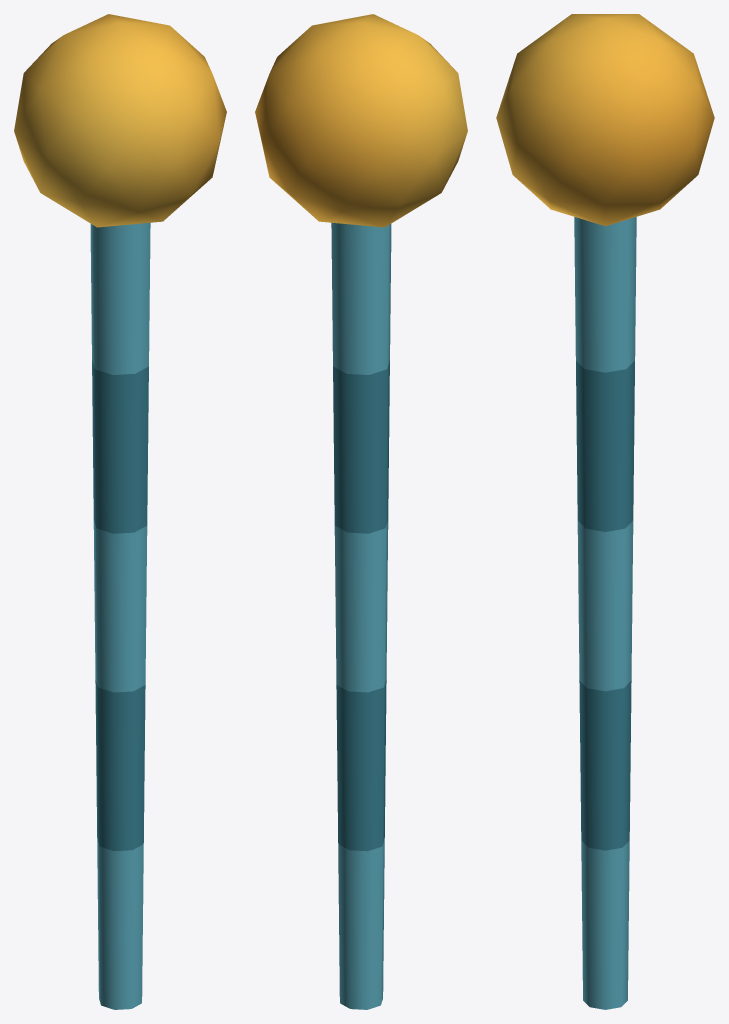
Rendered from lamppost03.fbx.
The picture shows the model from 3 angles, left to right: view 1: azimuth 30°, elevation 25°; view 2: azimuth 150°, elevation 25°; view 3: azimuth 270°, elevation 25°; orthographic projection.
Visible parts, largest first — view 1: lamppost03; view 2: lamppost03; view 3: lamppost03.
Part boxes in pixels (left/top/right/bottom): lamppost03: left=14, top=14, right=226, bottom=1009; lamppost03: left=255, top=14, right=467, bottom=1009; lamppost03: left=496, top=14, right=714, bottom=1009.
Size of the model in its own units: 80.01 by 417 by 84.12.
